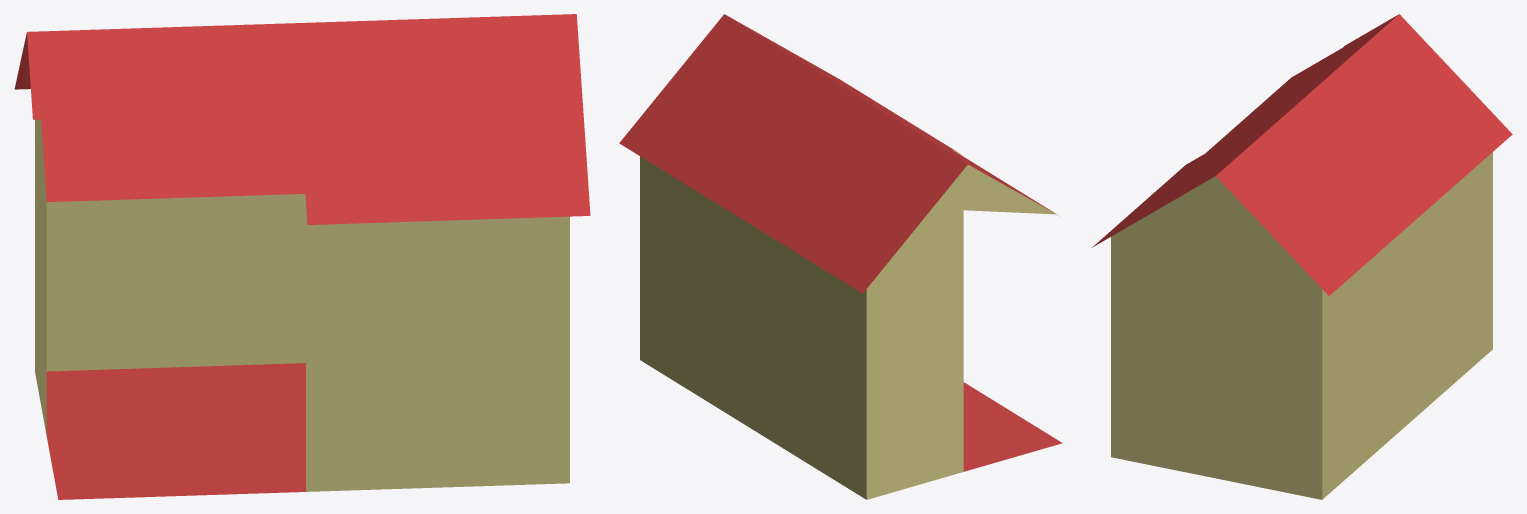
3 views of the same model, side by side, from view 1: azimuth 30°, elevation 25°; view 2: azimuth 150°, elevation 25°; view 3: azimuth 270°, elevation 25° (orthographic). The views are drawn at different scales.
Size of the model in its own units: 24.56 by 21.47 by 17.38.
